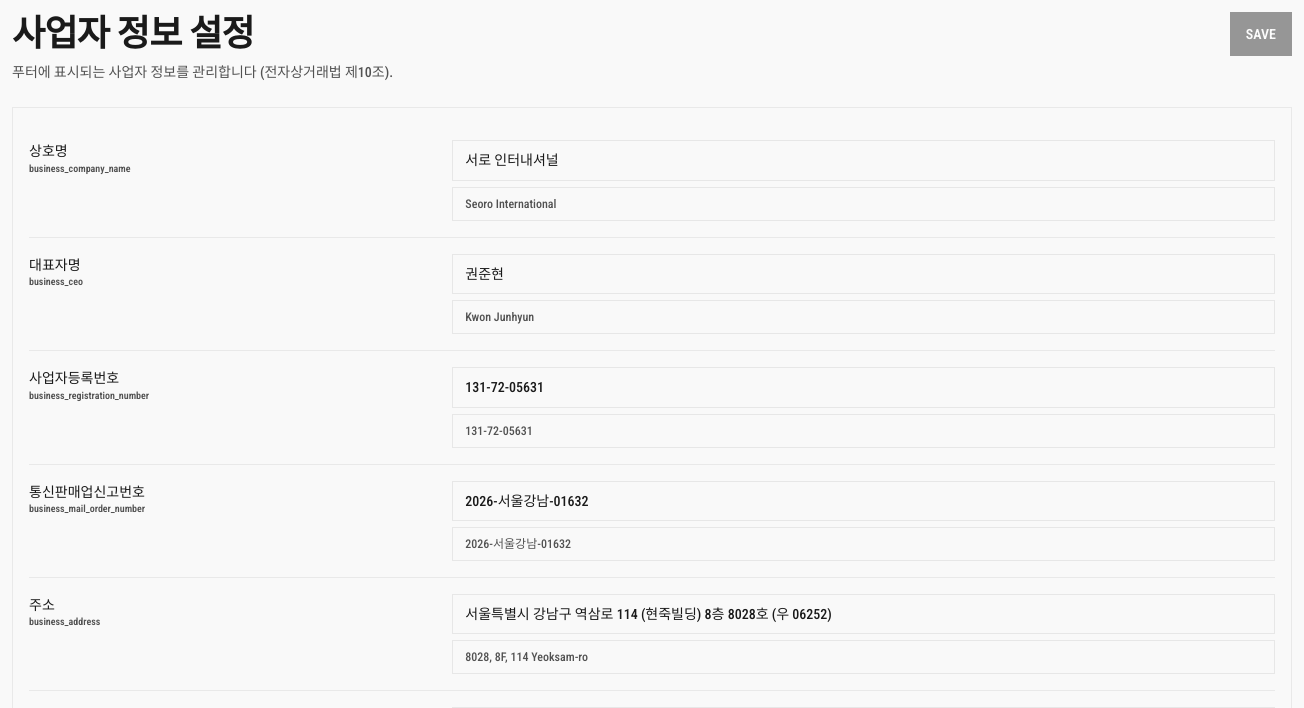
BusinessInfoEditor › saves an English-only edit without overwriting Korean and invalidates storefront settings
Replace the text in the field named "상호명 (EN)" with "Updated company" at (864, 204), box [452, 187, 1275, 221]
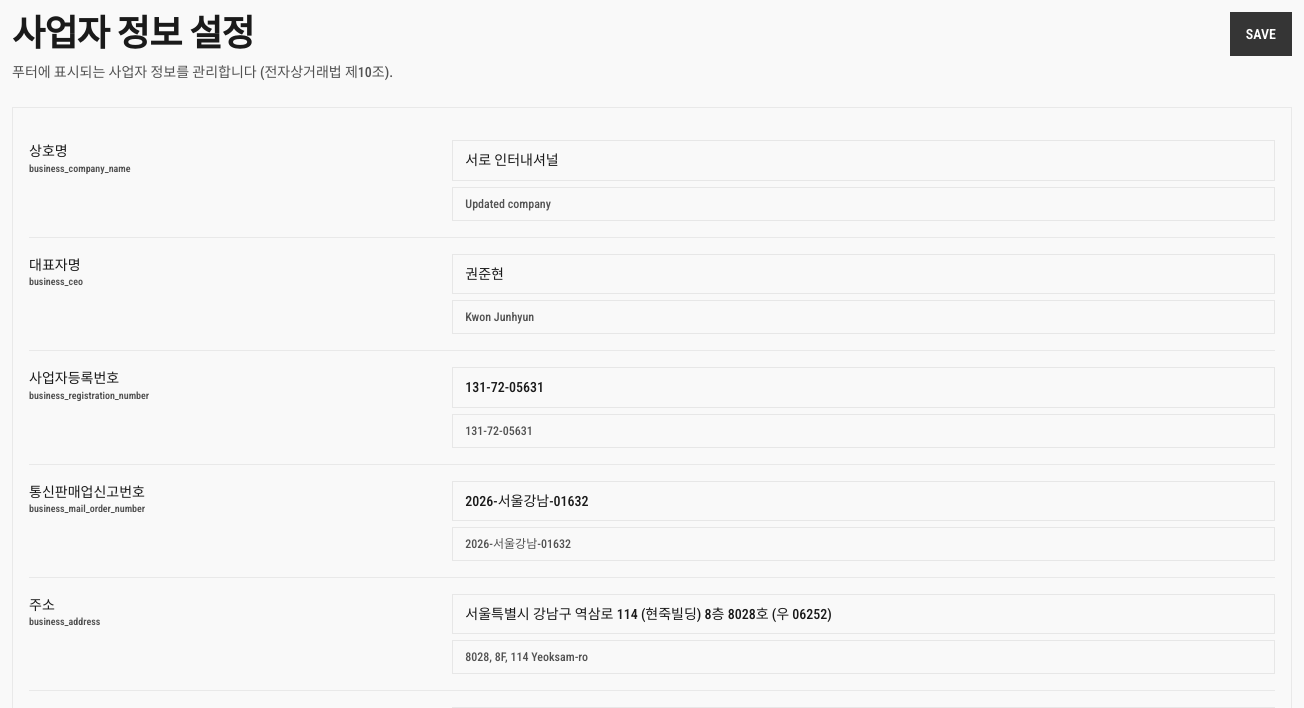
Click the button "Save" at (1261, 34), box [1230, 12, 1292, 56]
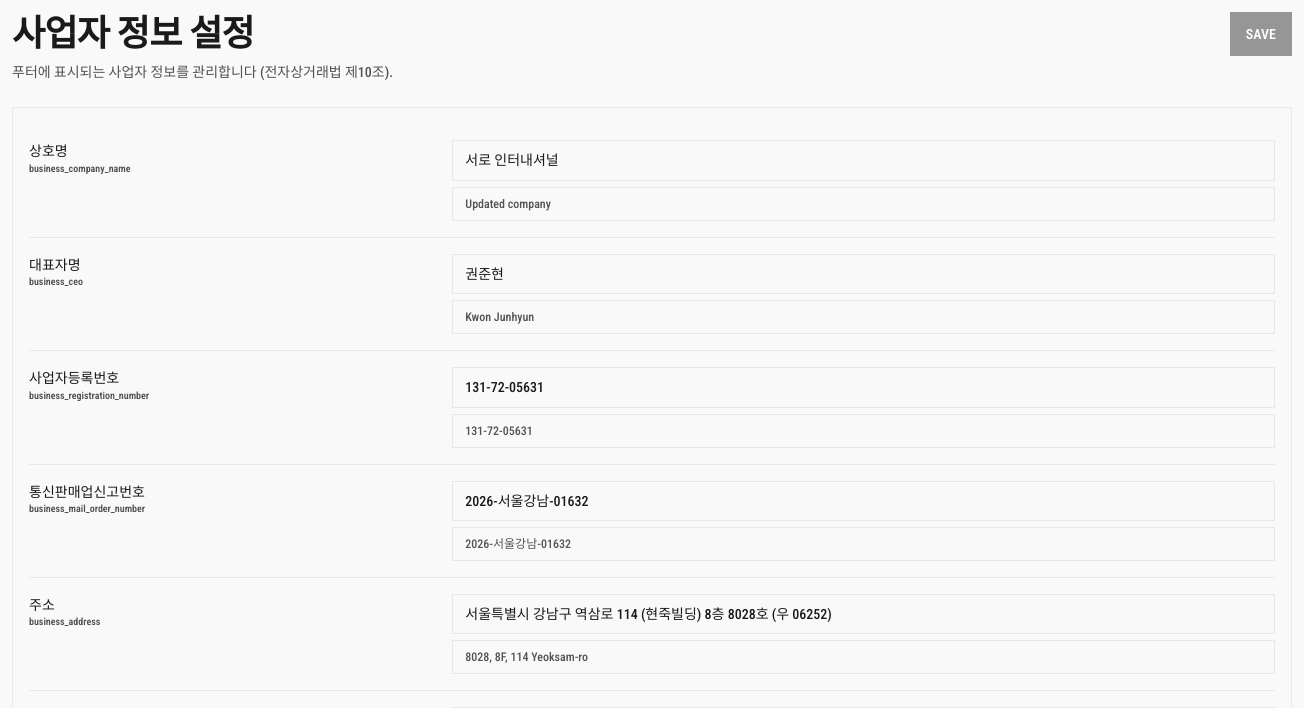
Expected: the field named "상호명" holds "서로 인터내셔널", [452, 140, 1275, 181]
Expected: the button "Save" is disabled, [1230, 12, 1292, 56]
